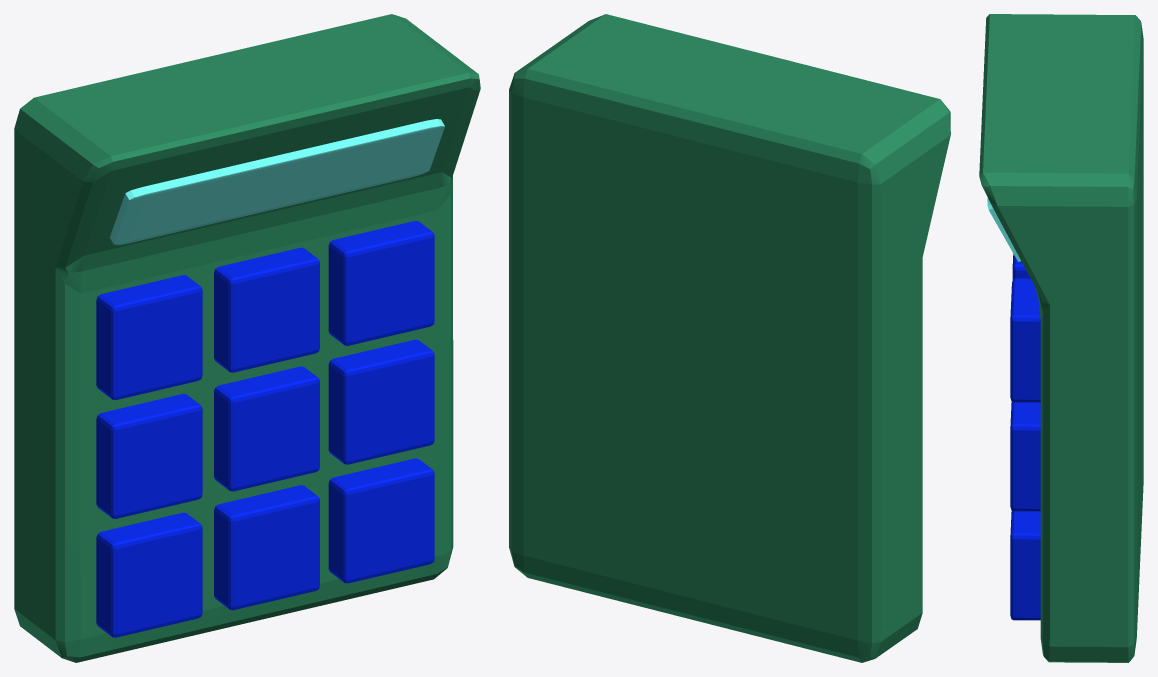
Rendered from calc.glb.
3 views of the same model, side by side, from view 1: azimuth 30°, elevation 25°; view 2: azimuth 150°, elevation 25°; view 3: azimuth 270°, elevation 25° (orthographic). The views are drawn at different scales.
Parts seen in each view (by area): view 1: Calc; view 2: Calc; view 3: Calc.
Part boxes in pixels (x1,y1,x2,y2): Calc: (14,14,480,662); Calc: (509,14,950,662); Calc: (979,14,1143,662).
Size of the model in its own units: 1.55 by 2 by 0.6094.
